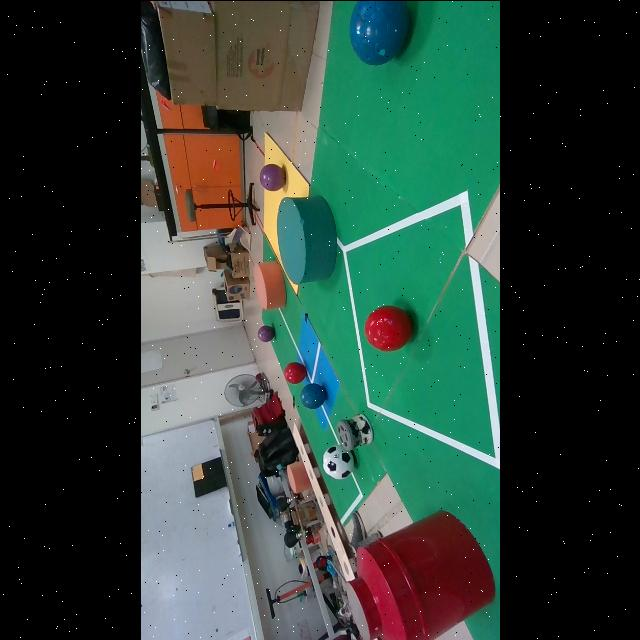B: (348, 0, 408, 64), (300, 382, 327, 407)
P: (259, 162, 284, 190), (256, 324, 274, 341)
R: (364, 305, 412, 351), (283, 361, 305, 383)
